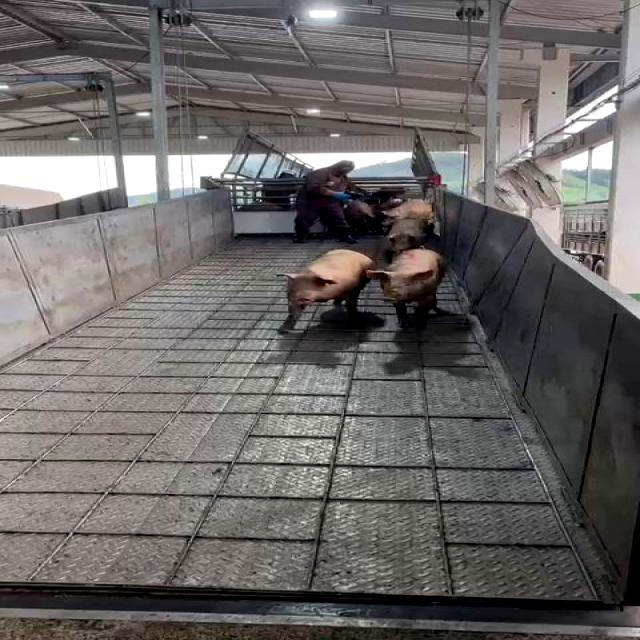pig: (280, 249, 374, 332), (367, 249, 445, 328)
